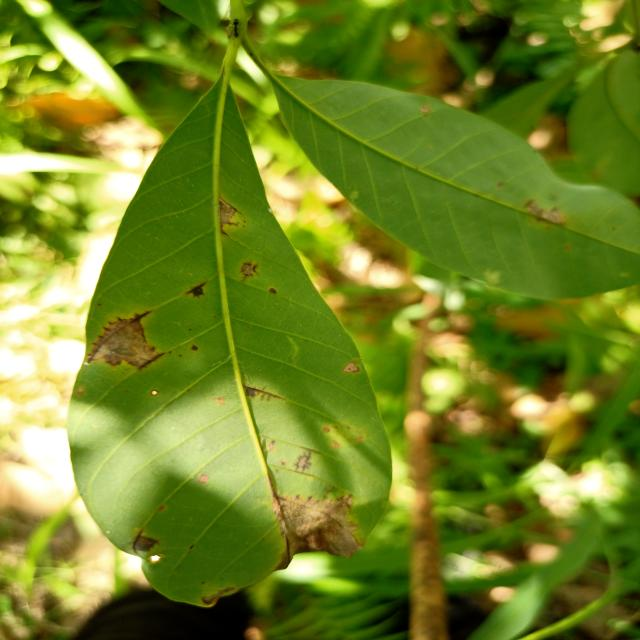Colletotrichum: (342, 363, 358, 373), (191, 345, 198, 351), (150, 389, 157, 395)
Corynespora: (217, 196, 241, 235), (244, 384, 286, 402), (132, 529, 159, 556), (266, 476, 284, 507), (138, 352, 167, 370), (239, 260, 259, 283), (293, 452, 314, 473), (184, 281, 207, 298), (128, 310, 152, 324)
Leaf-Blight: (272, 494, 363, 570), (88, 319, 158, 366)
